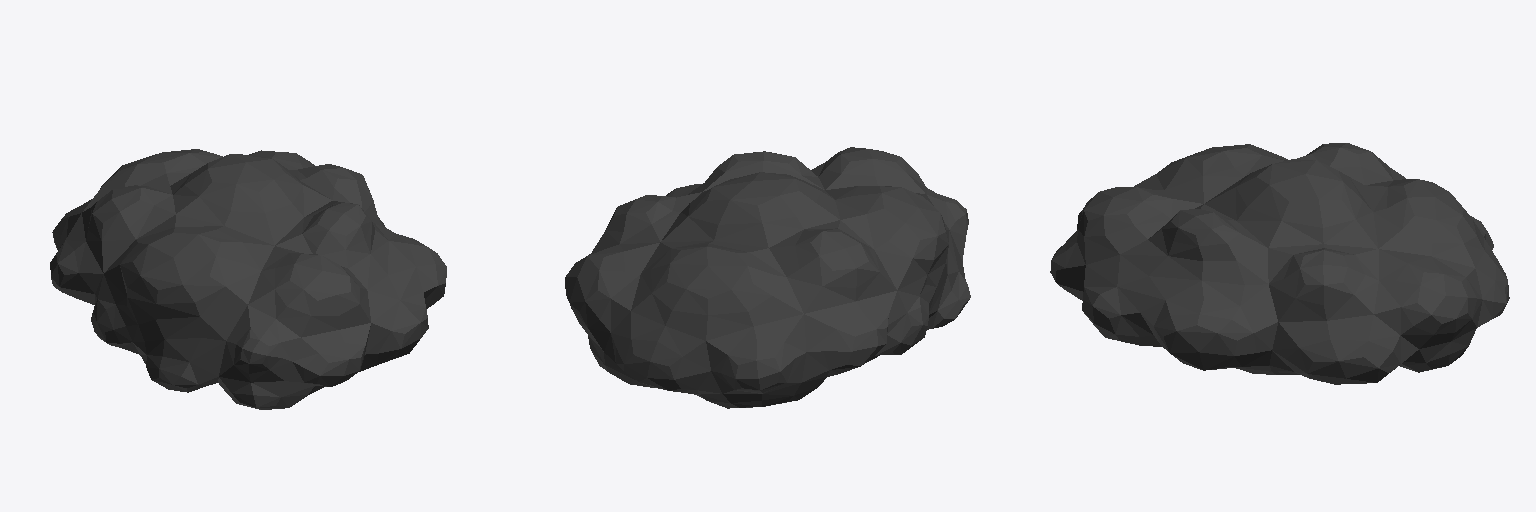
Rendered from cloud.obj.
3 views of the same model, side by side, from view 1: azimuth 30°, elevation 25°; view 2: azimuth 150°, elevation 25°; view 3: azimuth 270°, elevation 25° (orthographic).
Parts seen in each view (by area): view 1: n0b0_0; view 2: n0b0_0; view 3: n0b0_0.
Part boxes in pixels (left/top/right/bottom): n0b0_0: left=50, top=149, right=446, bottom=409; n0b0_0: left=565, top=147, right=970, bottom=408; n0b0_0: left=1050, top=143, right=1509, bottom=384.
Size of the model in its own units: 471 by 238 by 594.